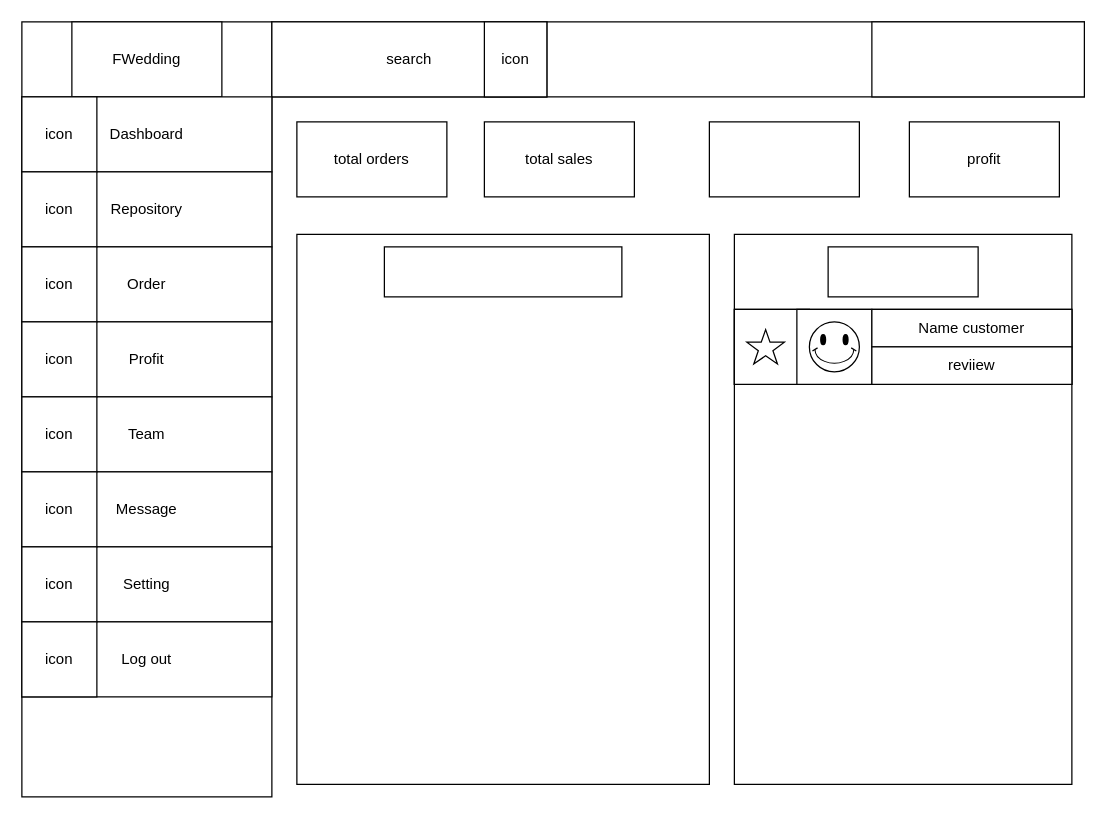
This 1106x819 diagram has some shape labels left out. Each missing label, with the centre of its shape:
admin: pixel 977 59
Recent orrders: pixel 502 271
Recent reviews: pixel 902 271
